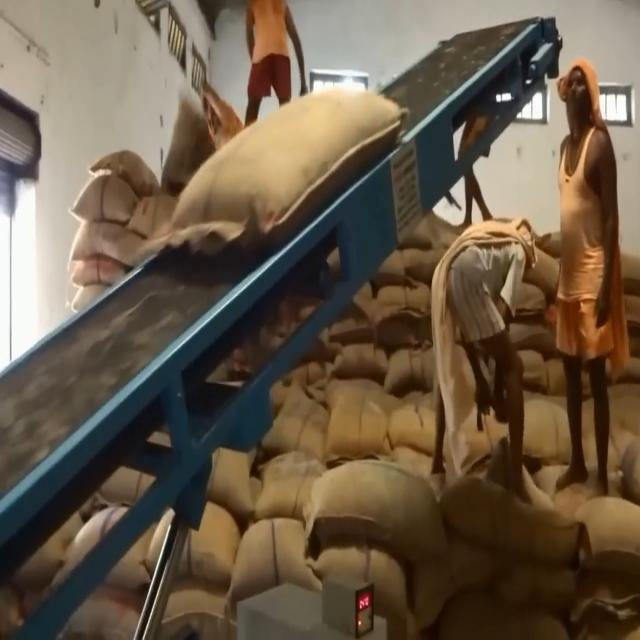gunny_bag: (148, 82, 412, 262)
